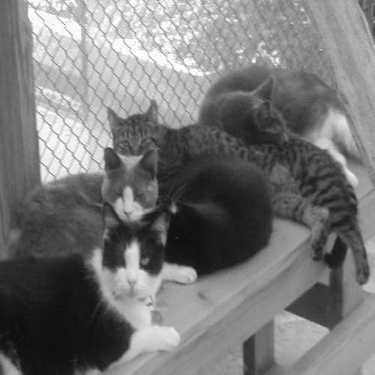cat: (103, 98, 374, 287), (2, 199, 180, 370), (198, 62, 365, 193), (5, 146, 159, 262), (159, 152, 274, 276)
